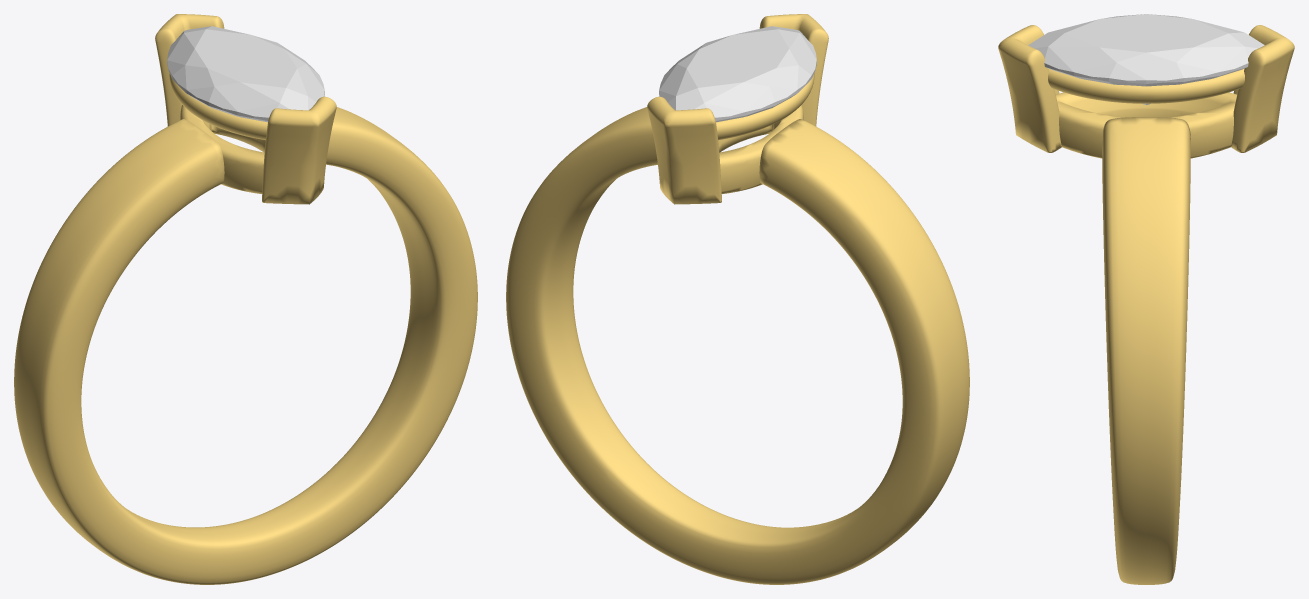
File: diamond-marquise-yellowgold-protectededges2prong-straighttaperedband-nosidestones.glb
The picture shows the model from 3 angles, left to right: view 1: azimuth 30°, elevation 25°; view 2: azimuth 150°, elevation 25°; view 3: azimuth 270°, elevation 25°; orthographic projection. The views are drawn at different scales.
Visible parts, largest first — view 1: metal, stone; view 2: metal, stone; view 3: metal, stone.
Part boxes in pixels (bbox=[...]): metal: bbox=[14, 14, 477, 584]; stone: bbox=[167, 26, 324, 122]; metal: bbox=[506, 14, 969, 584]; stone: bbox=[659, 26, 816, 122]; metal: bbox=[998, 25, 1294, 584]; stone: bbox=[1028, 14, 1264, 104].
Size of the model in its own units: 20.48 by 22.93 by 11.69.
